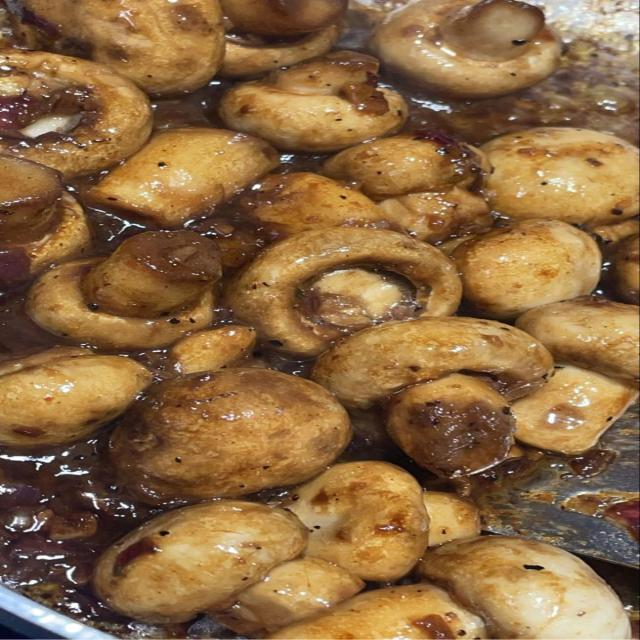champignon mushrooms: (313, 317, 553, 477), (111, 368, 350, 499), (225, 228, 461, 357), (93, 501, 307, 622), (28, 231, 220, 349), (420, 536, 631, 639), (313, 317, 553, 407), (0, 50, 151, 178), (91, 127, 279, 228), (323, 132, 492, 243), (23, 0, 224, 93), (219, 52, 407, 151), (372, 0, 560, 98), (287, 461, 428, 581), (481, 127, 639, 226), (0, 347, 151, 446), (452, 220, 601, 318), (387, 374, 515, 477), (267, 583, 490, 639), (209, 557, 364, 635), (512, 364, 638, 455), (0, 156, 90, 273), (517, 296, 639, 379), (241, 173, 399, 237), (220, 0, 346, 77), (219, 24, 341, 78), (220, 0, 346, 36), (169, 325, 255, 374), (423, 491, 480, 547), (612, 234, 639, 305), (590, 218, 639, 249)
